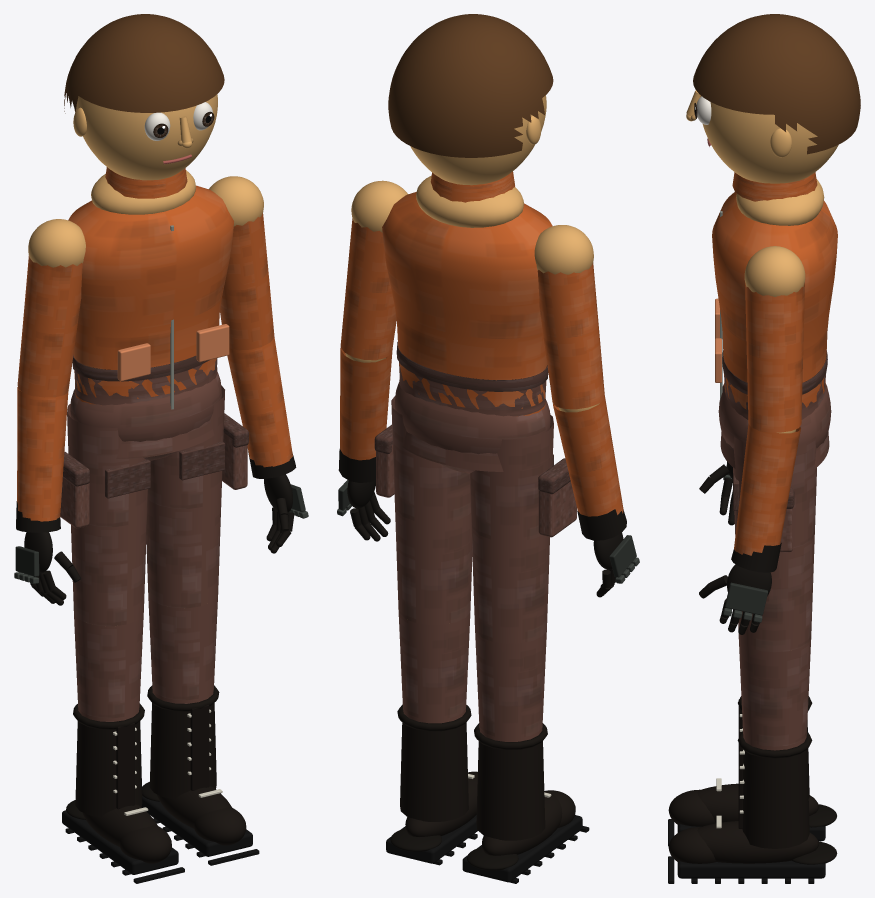
The model's file is 04-combinaison-de-travail.glb.
The picture shows the model from 3 angles, left to right: view 1: azimuth 30°, elevation 25°; view 2: azimuth 150°, elevation 25°; view 3: azimuth 270°, elevation 25°; orthographic projection. The views are drawn at different scales.
Bounding box in the file's own units: 0.6344 × 1.77 × 0.3715.
25 materials, 4 textured.
